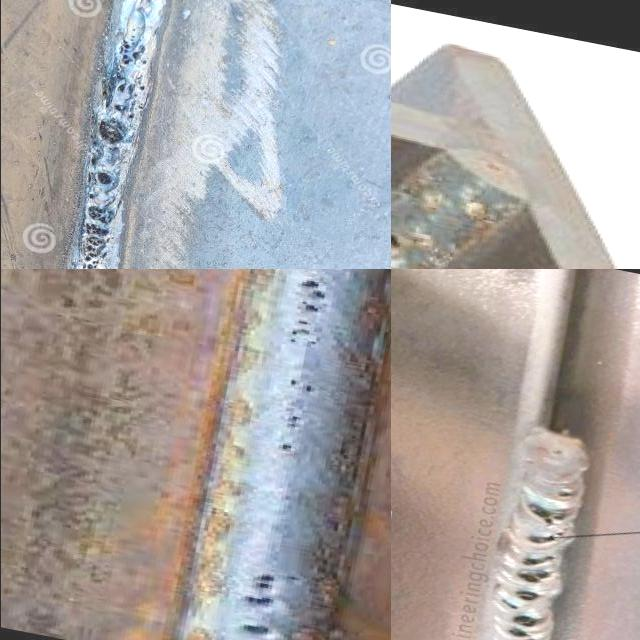defect: (68, 155, 125, 269), (96, 23, 154, 123), (233, 570, 310, 609), (498, 595, 544, 640), (287, 277, 334, 314), (276, 317, 330, 348), (523, 500, 571, 526), (96, 117, 126, 149), (233, 618, 272, 640), (522, 529, 566, 547), (284, 375, 317, 397), (282, 411, 309, 432), (266, 441, 298, 458), (516, 569, 550, 584), (521, 554, 555, 567), (390, 228, 407, 253), (513, 589, 541, 603), (554, 487, 576, 498)
